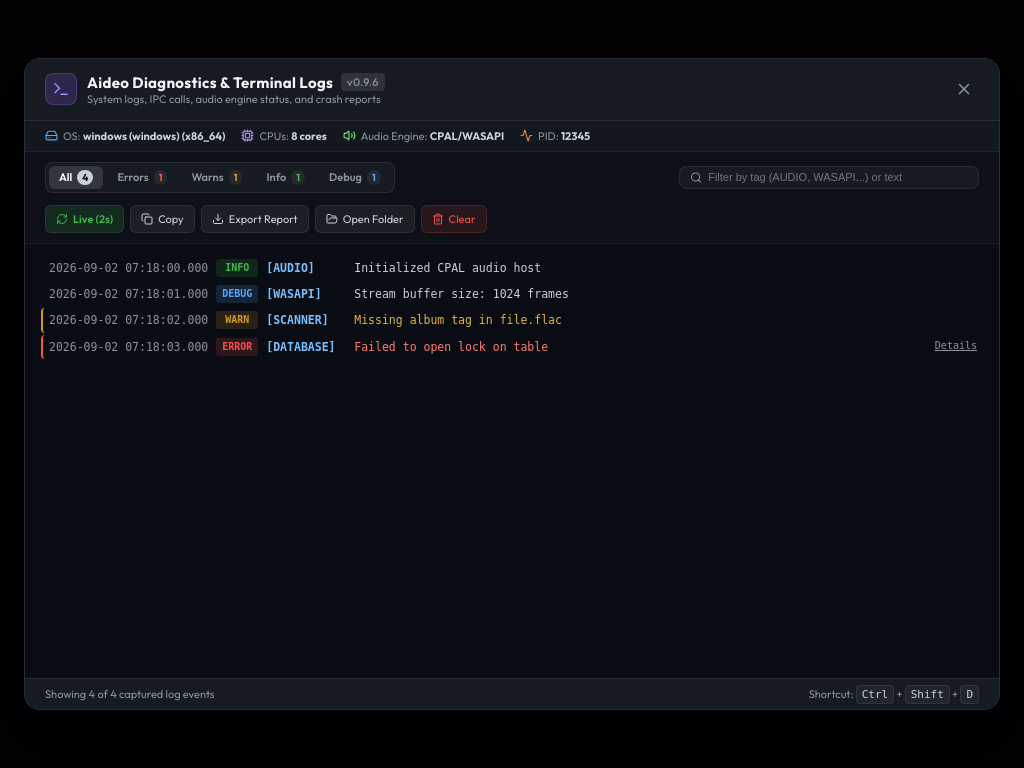
Test: DebugLogsModal Component › expands details row when clicked
This screenshot has width=1024, height=768.
Expected: the text "Failed to open lock on table" is shown, x1=354 y1=340 x2=548 y2=354
Note: Click details
What coordinates should you click on to do the following:
click the text "Details"
I would click on:
 (956, 346)
Its box is x1=935 y1=338 x2=977 y2=354.
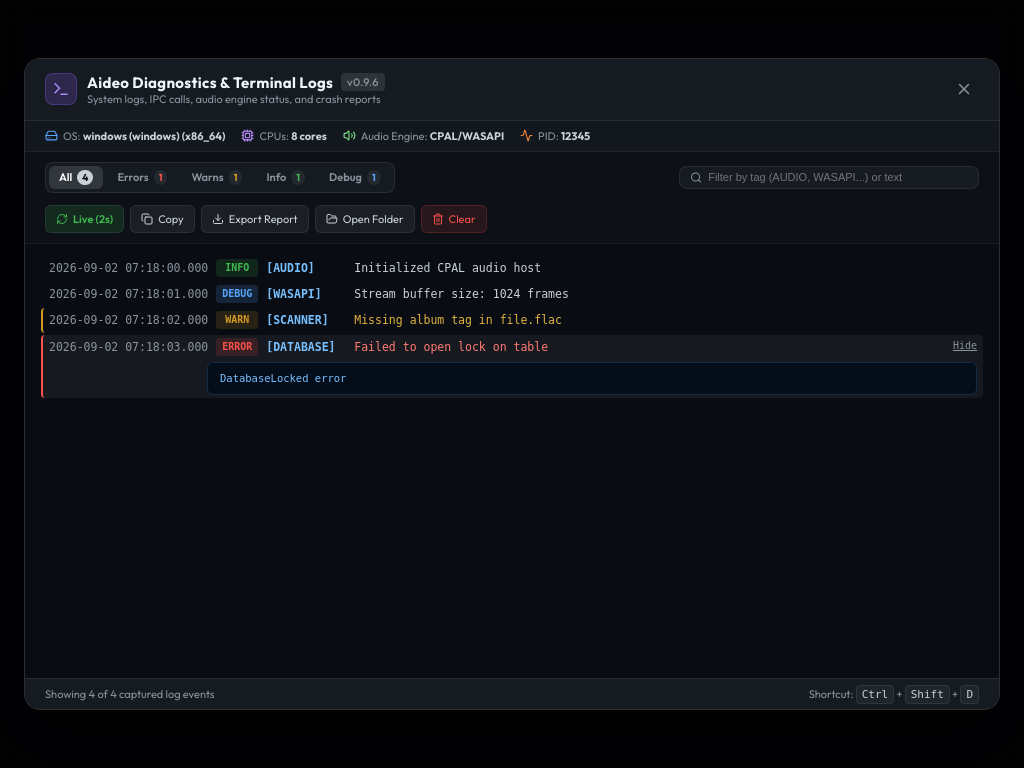
Expected: the text "DatabaseLocked error" is shown, x1=207 y1=362 x2=977 y2=395
